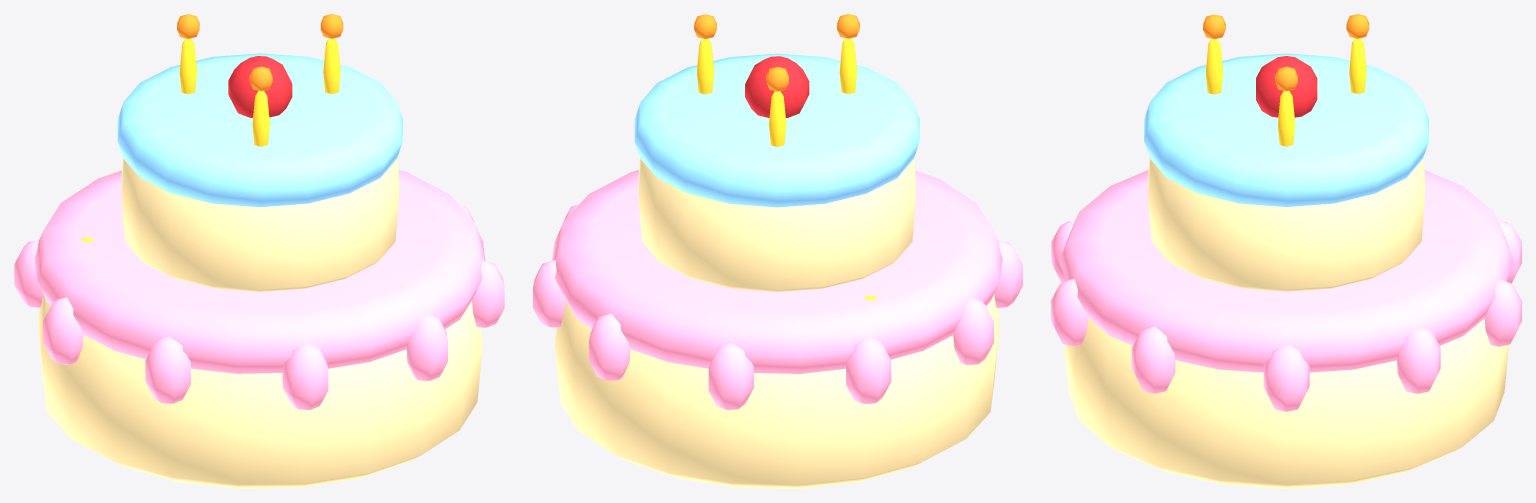
Rendered from cake.glb.
3 views of the same model, side by side, from view 1: azimuth 30°, elevation 25°; view 2: azimuth 150°, elevation 25°; view 3: azimuth 270°, elevation 25° (orthographic).
Parts seen in each view (by area): view 1: item; view 2: item; view 3: item.
Boxes of the visible parts, left/top/right/bottom form: item: left=14, top=14, right=504, bottom=488; item: left=533, top=14, right=1022, bottom=488; item: left=1051, top=14, right=1521, bottom=488.
Size of the model in its own units: 0.5942 by 0.506 by 0.5695.
1 material, 1 textured.
